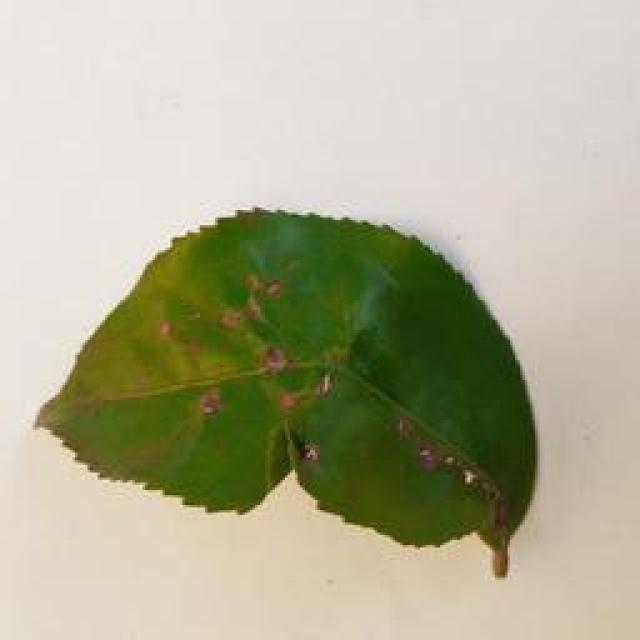Helopeltis: (37, 197, 545, 570)
